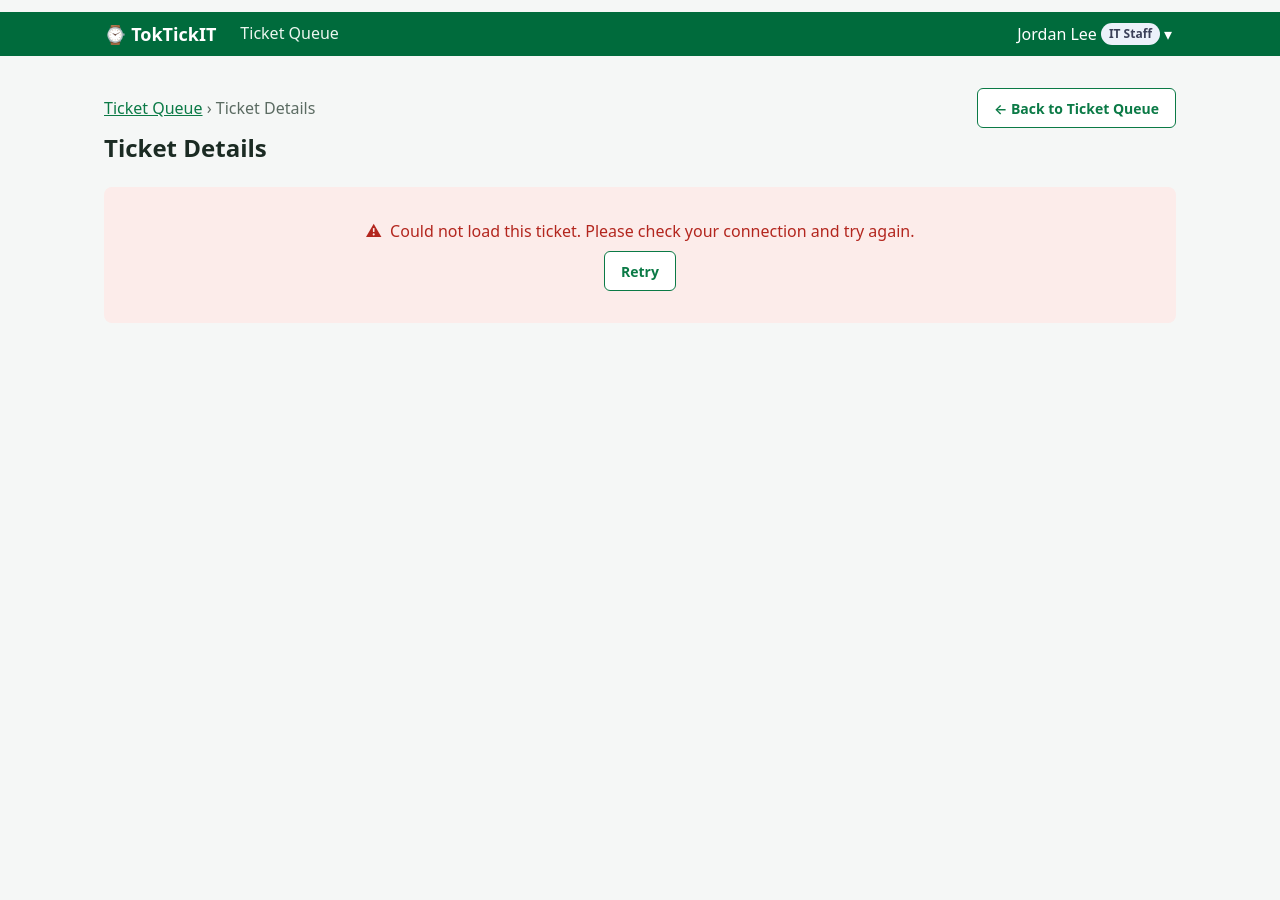
Test: Error/failure state › shows the ErrorState with Retry on a network failure; Retry re-fetches and recovers
Expected: the message shows "Could not load this ticket. Please check your connection and try again.", [390,220,914,242]
Expected: the text "TKT-2026-000021" is not shown
Step 1. Click the button "Retry" → (640,271), box [604,251,676,291]
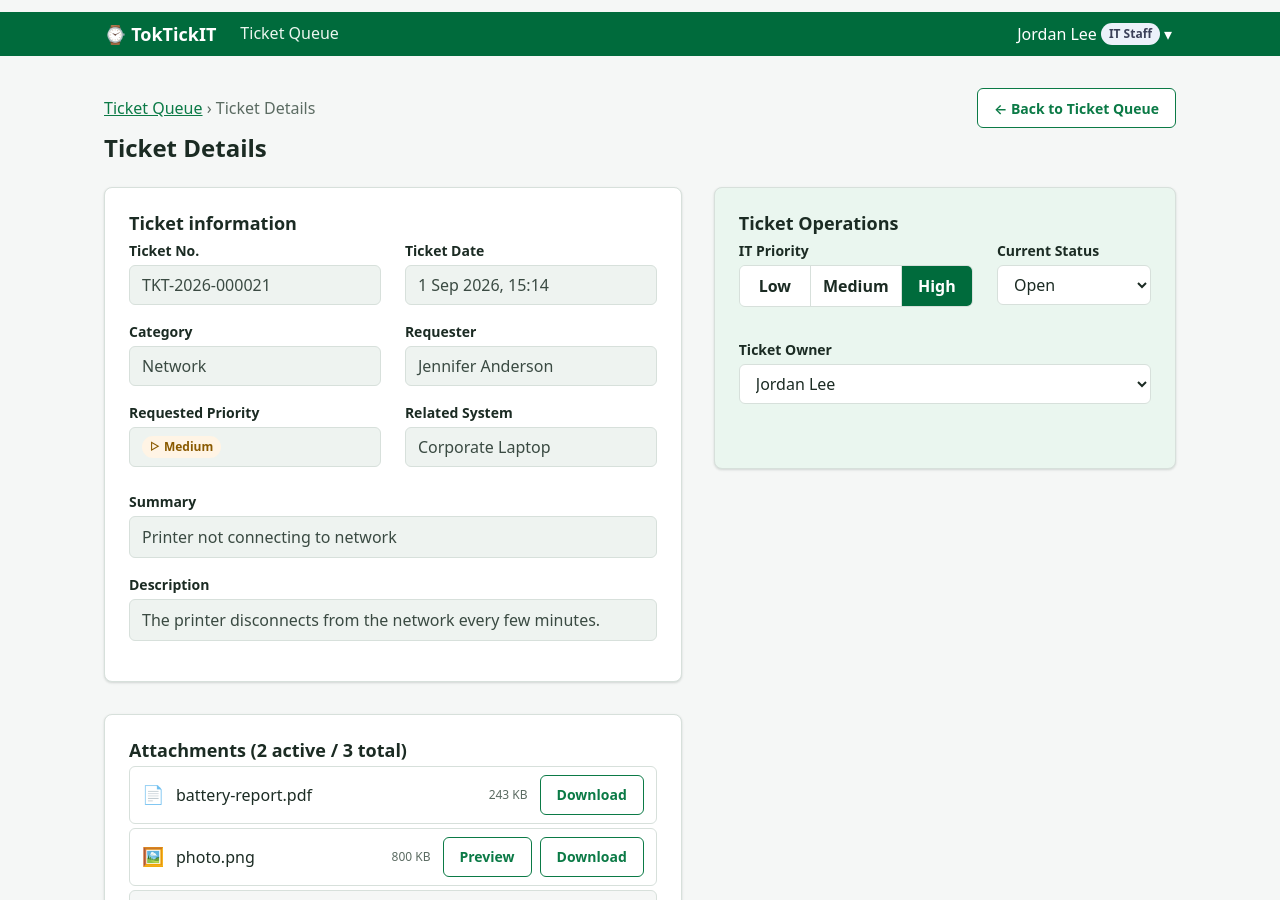
Now the text "TKT-2026-000021" is shown, box [129,265,381,305]
Now the message "⚠ Could not load this ticket. Please check your connection and try again. Retry" is gone
